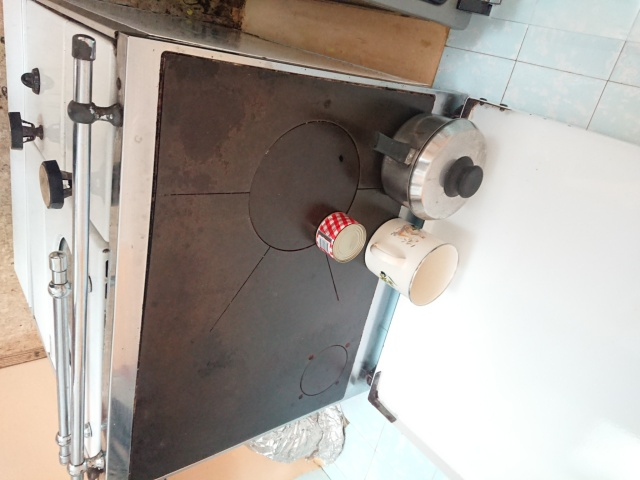Podravka Luncheon Meat 150g: (313, 210, 369, 265)
